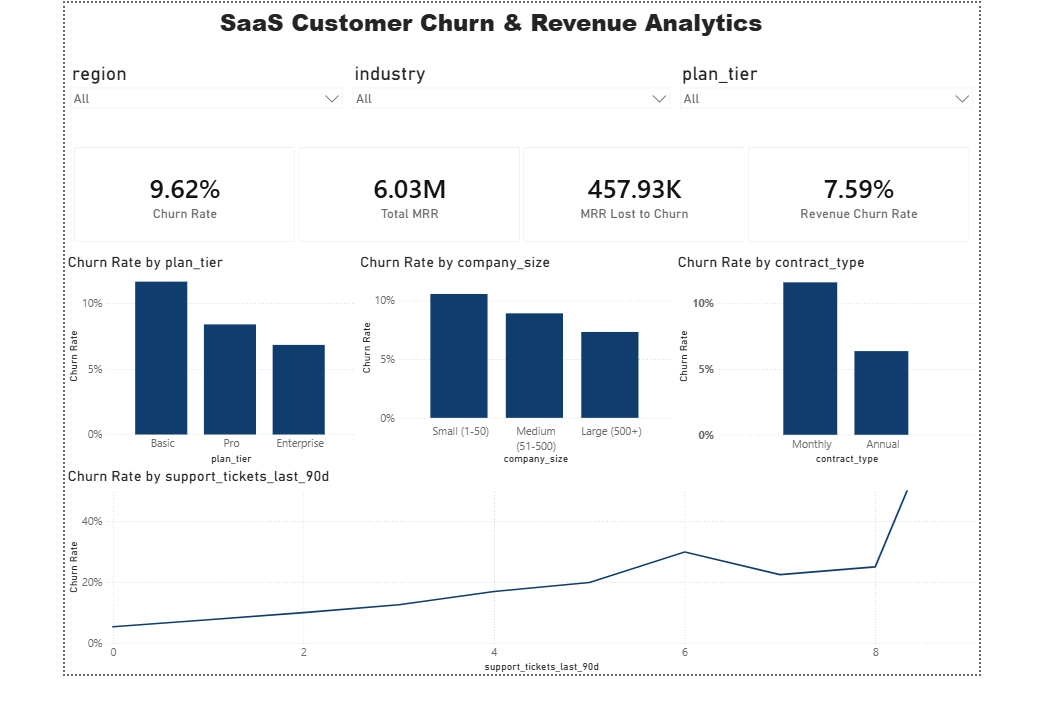

The page's visual inventory and layout, read from the dashboard file:
{"tool":"powerbi","page":{"name":"Page 1","canvas":[1700,1250],"ordinal":0},"visuals":[{"type":"cardVisual","fields":{"Data":["fact_churn.Churn Rate","fact_subscriptions.Total MRR","fact_subscriptions.MRR Lost to Churn","fact_subscriptions.Revenue Churn Rate"]},"box":[0,252,1700,210],"z":0},{"type":"clusteredColumnChart","fields":{"Category":["fact_subscriptions.plan_tier"],"Y":["fact_churn.Churn Rate"]},"box":[0,465,545,397.5],"z":1000},{"type":"clusteredColumnChart","fields":{"Y":["fact_churn.Churn Rate"],"Category":["dim_customers.company_size"]},"box":[545,465,590,397.5],"z":2000},{"type":"clusteredColumnChart","fields":{"Category":["fact_subscriptions.contract_type"],"Y":["fact_churn.Churn Rate"]},"box":[1136,464,564,398],"z":3000},{"type":"lineChart","fields":{"Category":["fact_support.support_tickets_last_90d"],"Y":["fact_churn.Churn Rate"]},"box":[0,862.5,1700,387.5],"z":4000},{"type":"slicer","fields":{"Values":["dim_customers.region"]},"box":[0,104,526,148],"z":5000},{"type":"slicer","fields":{"Values":["fact_subscriptions.plan_tier"]},"box":[1136,104,564,148],"z":6000},{"type":"slicer","fields":{"Values":["dim_customers.industry"]},"box":[526,104,610,148],"z":7000},{"type":"textbox","box":[0,0,1500,90],"z":8000}]}

Visuals, with their boxes on the page's 1700x1250 design canvas (x1, y1, x2, y2). These are canvas units, not pixel positions in the 1052x702 screenshot, which may show the page scaled, cropped or inside an application window:
cardVisual - fact_churn.Churn Rate x fact_subscriptions.Total MRR: [0, 252, 1700, 462]
clusteredColumnChart - fact_subscriptions.plan_tier x fact_churn.Churn Rate: [0, 465, 545, 862]
clusteredColumnChart - fact_churn.Churn Rate x dim_customers.company_size: [545, 465, 1135, 862]
clusteredColumnChart - fact_subscriptions.contract_type x fact_churn.Churn Rate: [1136, 464, 1700, 862]
lineChart - fact_support.support_tickets_last_90d x fact_churn.Churn Rate: [0, 862, 1700, 1250]
slicer - dim_customers.region: [0, 104, 526, 252]
slicer - fact_subscriptions.plan_tier: [1136, 104, 1700, 252]
slicer - dim_customers.industry: [526, 104, 1136, 252]
textbox: [0, 0, 1500, 90]
